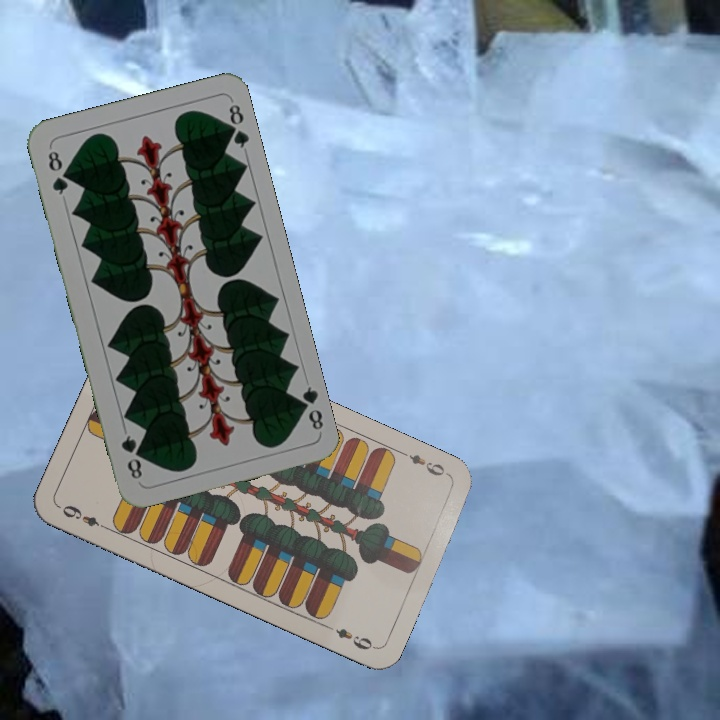E9: (397, 447, 453, 480), (58, 501, 111, 533)
G8: (292, 382, 326, 433), (44, 146, 71, 198)
